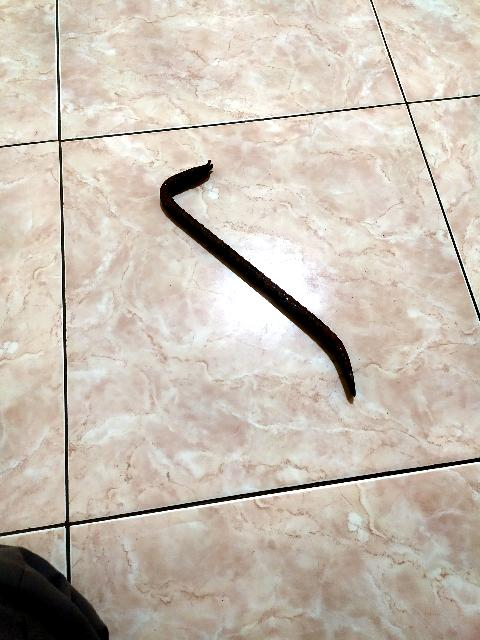crow bar: (141, 157, 362, 403)
